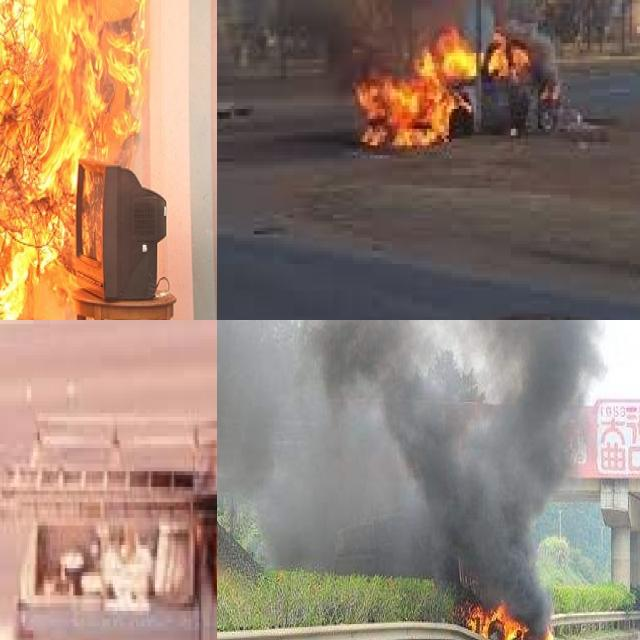fire: (0, 0, 149, 320), (345, 17, 538, 158), (458, 579, 553, 640)
smoke: (217, 320, 601, 613), (506, 24, 560, 80)
